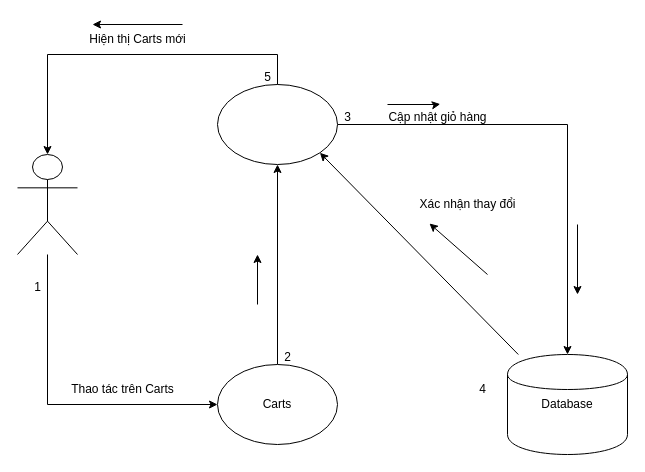
Some shapes in this 645 by 472 pixel diagram are drawn without their labels. The centre of each missing label's shape, as x and y in pixels:
"Customers" goes at point 47,204.
"System" goes at point 277,124.
